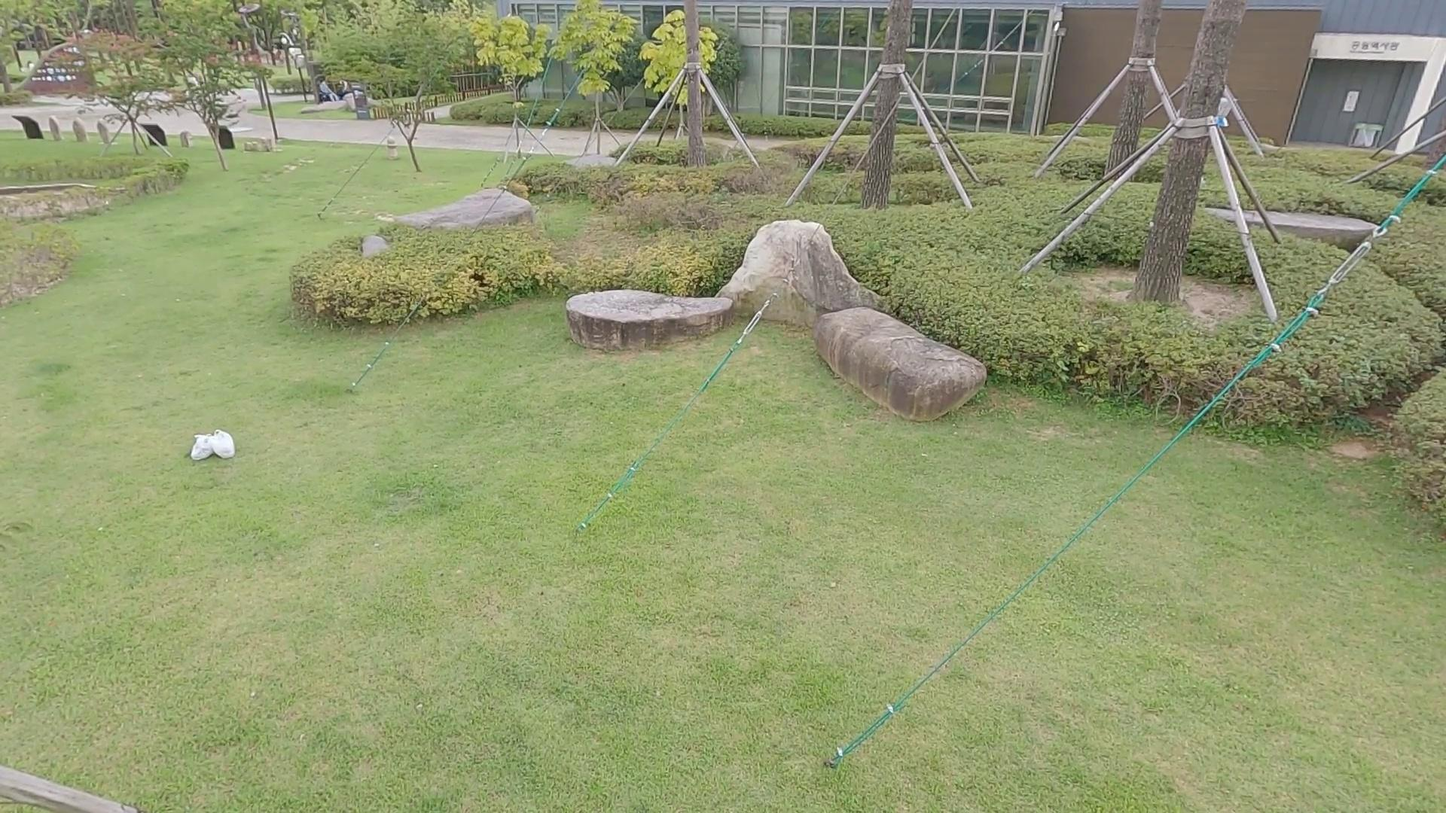trash: (210, 428, 235, 459), (191, 433, 215, 460)
